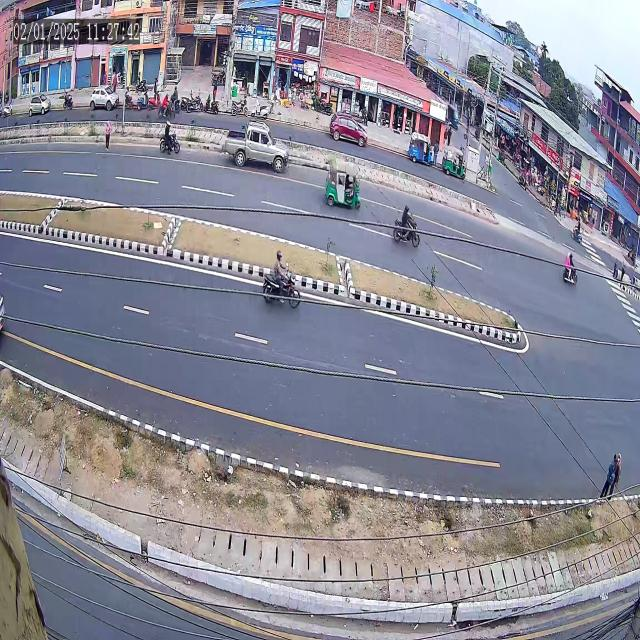auto: (317, 155, 368, 220)
motorcycle: (250, 236, 311, 325), (389, 200, 426, 254), (556, 248, 584, 291)
